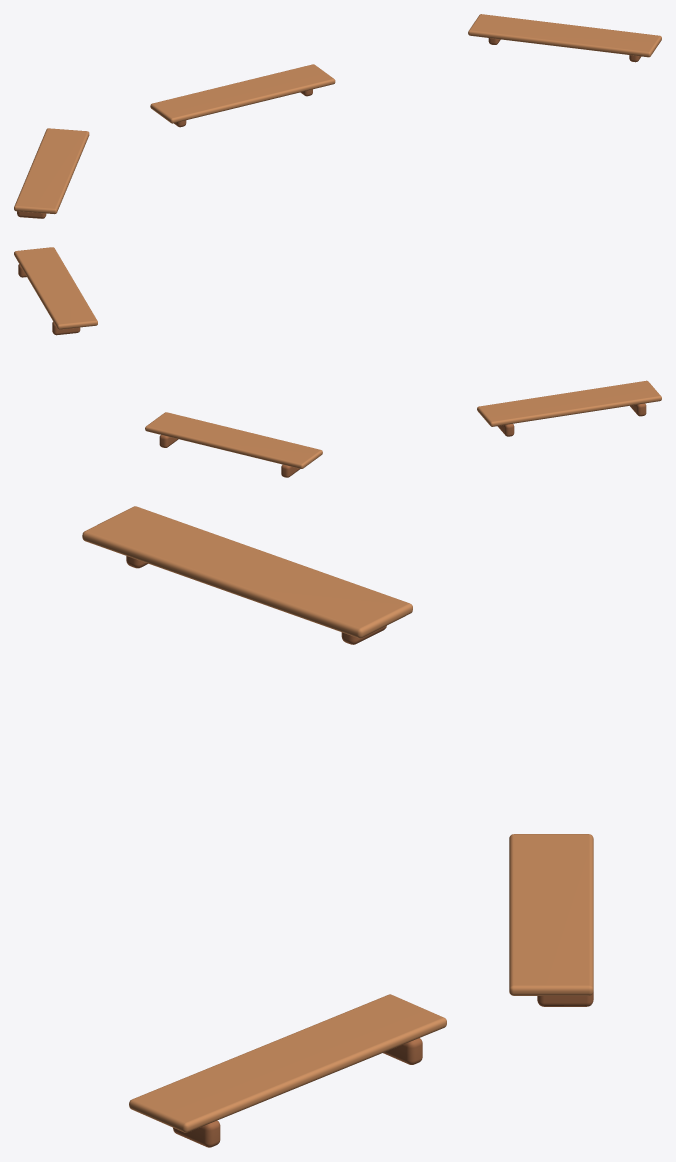
The model's file is room_shelves_v1_1_draco_webp.glb.
3 views of the same model, one above another, from view 1: azimuth 30°, elevation 25°; view 2: azimuth 150°, elevation 25°; view 3: azimuth 270°, elevation 25° (orthographic). The views are drawn at different scales.
Parts seen in each view (by area): view 1: display_shelf_02_board, display_shelf_01_board, display_shelf_03_board; view 2: display_shelf_03_board, display_shelf_01_board, display_shelf_02_board; view 3: display_shelf_03_board, display_shelf_02_board, display_shelf_01_board.
Part boxes in pixels (bbox=[...]): display_shelf_02_board: bbox=[468, 14, 661, 57]; display_shelf_01_board: bbox=[150, 64, 335, 123]; display_shelf_03_board: bbox=[14, 128, 89, 214]; display_shelf_03_board: bbox=[477, 380, 661, 426]; display_shelf_01_board: bbox=[145, 412, 322, 468]; display_shelf_02_board: bbox=[14, 247, 97, 329]; display_shelf_03_board: bbox=[82, 506, 412, 638]; display_shelf_02_board: bbox=[129, 994, 446, 1132]; display_shelf_01_board: bbox=[509, 834, 593, 995].
Bounding box in the file's own units: 5.21 × 0.49 × 1.82.
